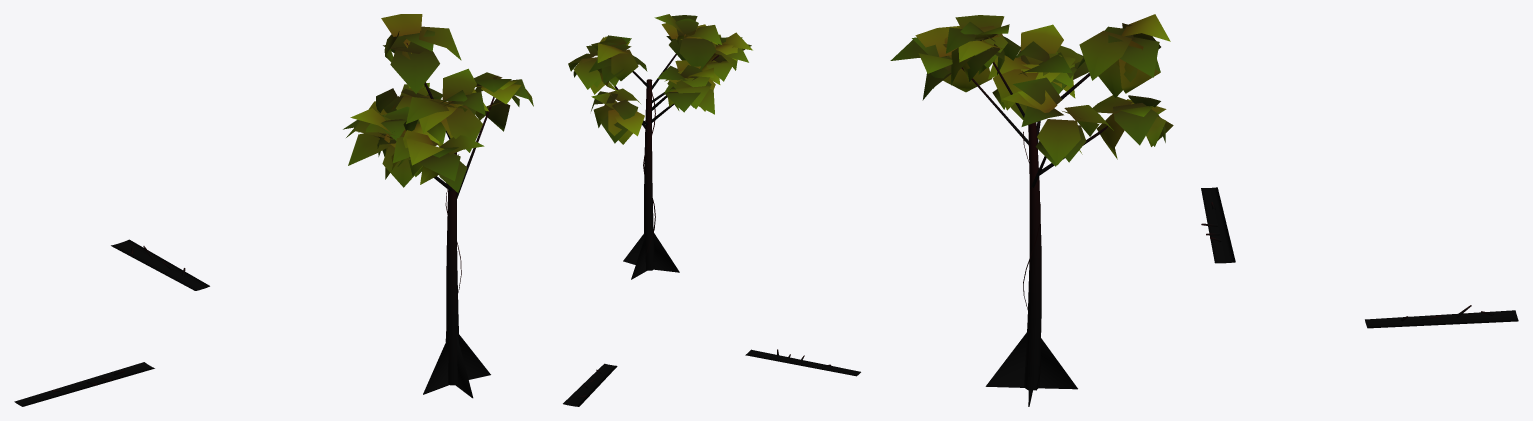
File: patch_open_far.glb
The picture shows the model from 3 angles, left to right: view 1: azimuth 30°, elevation 25°; view 2: azimuth 150°, elevation 25°; view 3: azimuth 270°, elevation 25°; orthographic projection. The views are drawn at different scales.
Visible parts, largest first — view 1: patch_open_far; view 2: patch_open_far; view 3: patch_open_far.
Part boxes in pixels (left/top/right/bottom): patch_open_far: left=14, top=14, right=533, bottom=406; patch_open_far: left=563, top=14, right=860, bottom=406; patch_open_far: left=890, top=14, right=1518, bottom=406.
Bounding box in the file's own units: 14.54 × 10.22 × 15.93.
1 material, 1 textured.
